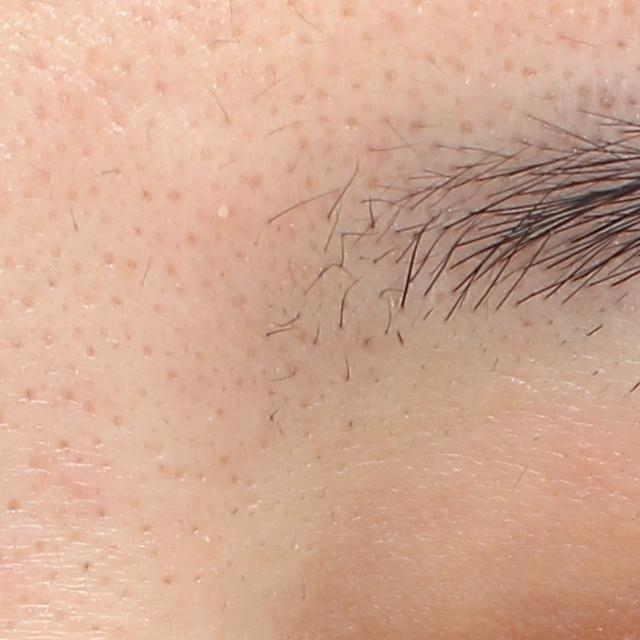pustule: (212, 200, 237, 226)
